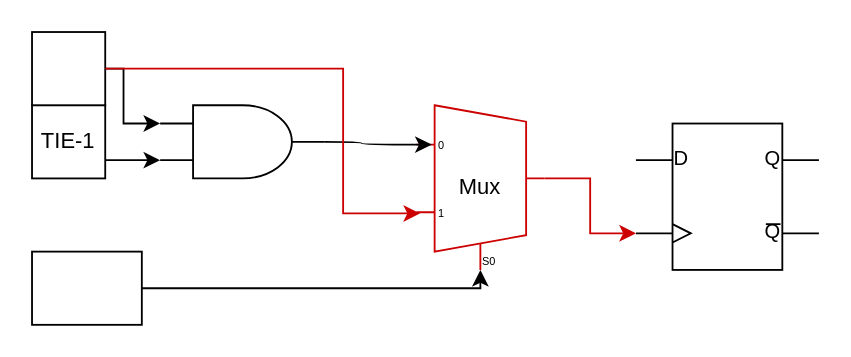
This 851x357 diagram has some shape labels left out. Here are the shapes that lost their labels. From the top down, the centre of each, then its label:
point 67,67: CLK
point 86,287: Test_Mode
